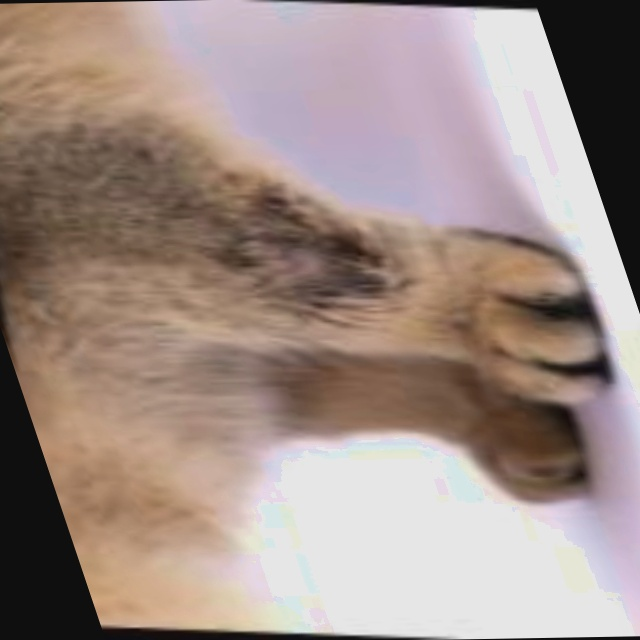ringworm: (222, 225, 375, 285)
